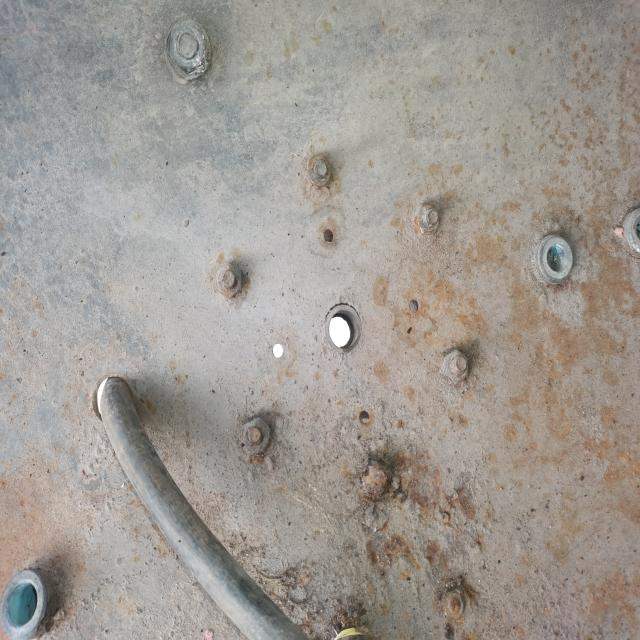bolt nut: (164, 13, 212, 78), (239, 414, 273, 456), (214, 260, 244, 300), (304, 152, 334, 190), (412, 201, 441, 237), (442, 348, 469, 385)
